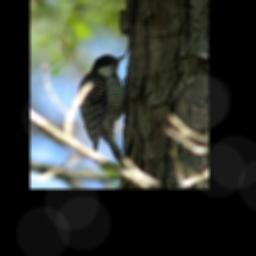Woodpecker: (77, 53, 129, 167)
